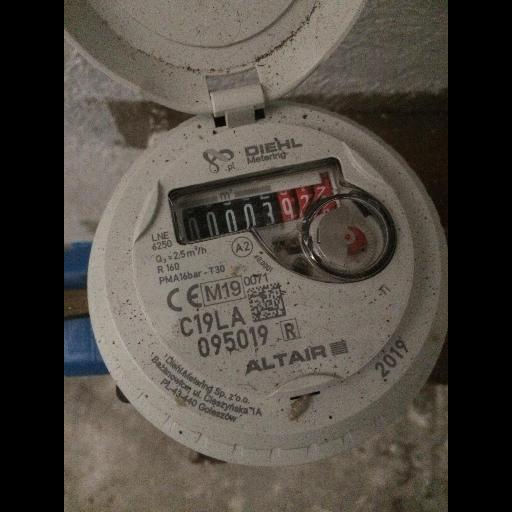0: (235, 195, 261, 231), (217, 199, 241, 235), (182, 207, 206, 242), (199, 204, 223, 239)
2: (294, 185, 319, 218)
3: (256, 191, 281, 227)
7: (312, 181, 334, 202)
9: (275, 188, 300, 223)
border_water_meter_number: (166, 156, 350, 247)
